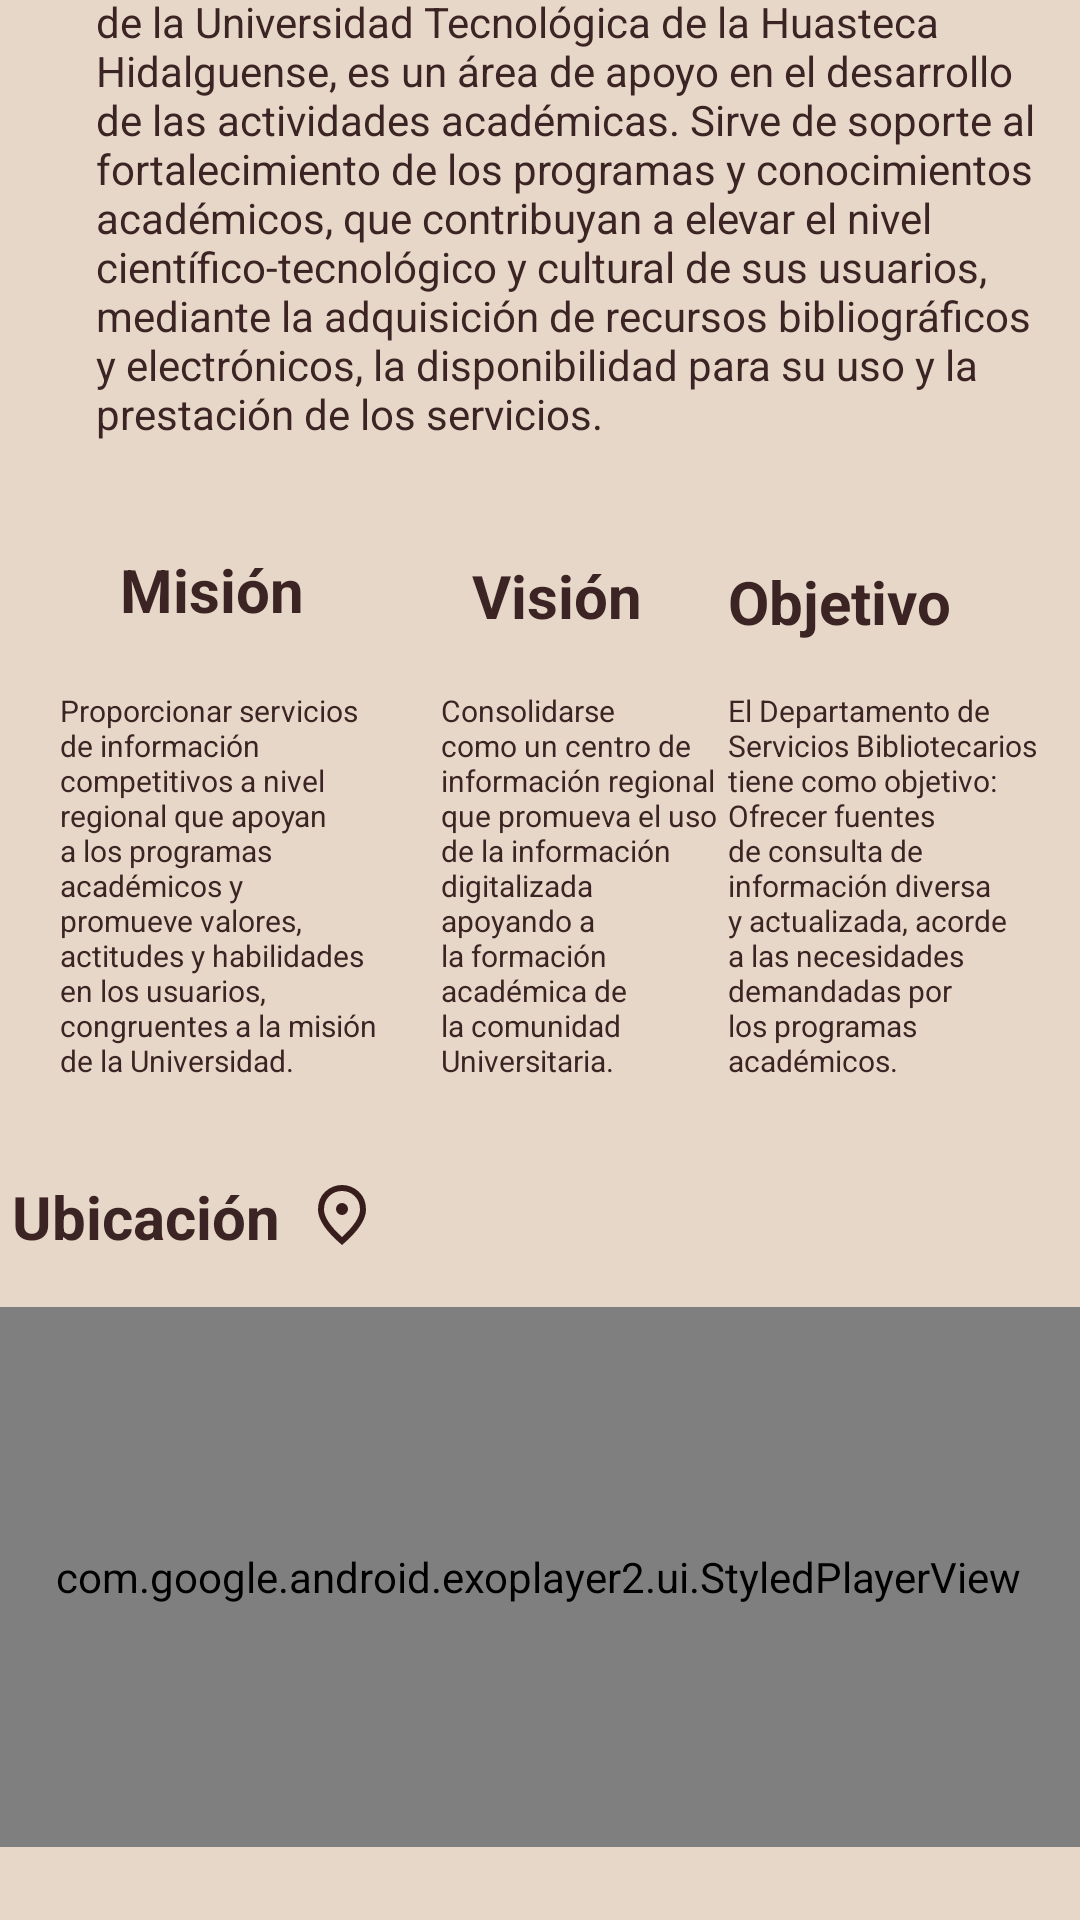

Icon click points for this 1080 × 1920 phone screenshot, format (x=x, y=y):
location: (x=342, y=1215)
